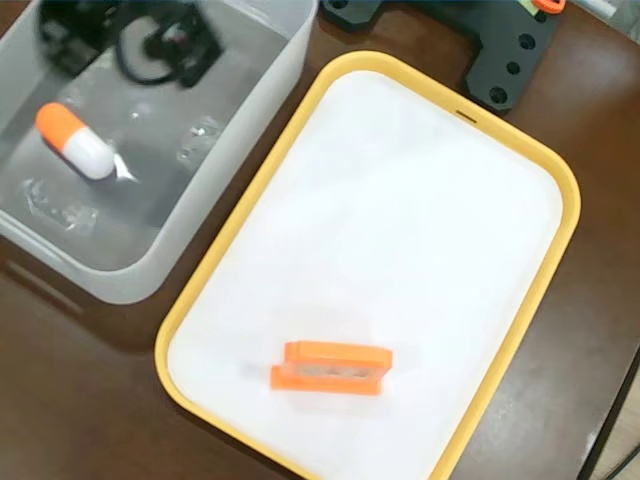pill: (29, 101, 121, 178)
